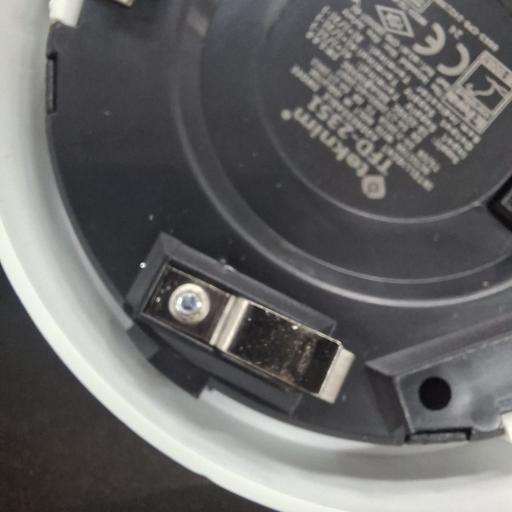yayli: (136, 258, 350, 405)
